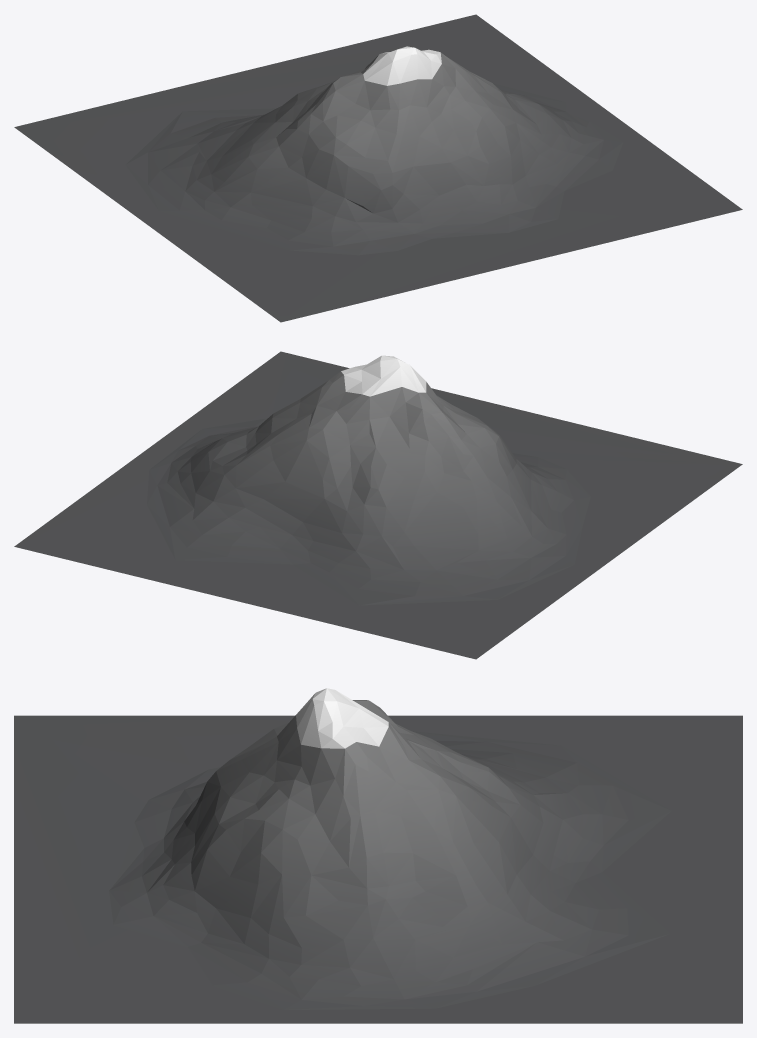
Rendered from Mountains_02.fbx.
3 renders of one model, top to bottom at view 1: azimuth 30°, elevation 25°; view 2: azimuth 150°, elevation 25°; view 3: azimuth 270°, elevation 25°, orthographic. The views are drawn at different scales.
Parts seen in each view (by area): view 1: Mountains_02; view 2: Mountains_02; view 3: Mountains_02.
Boxes of the visible parts, left/top/right/bottom form: Mountains_02: left=14, top=14, right=742, bottom=322; Mountains_02: left=14, top=351, right=742, bottom=659; Mountains_02: left=14, top=688, right=742, bottom=1023.
Bounding box in the file's own units: 25600 × 7032 × 25600.
